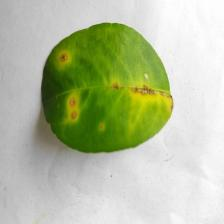canker: (54, 46, 174, 131)
